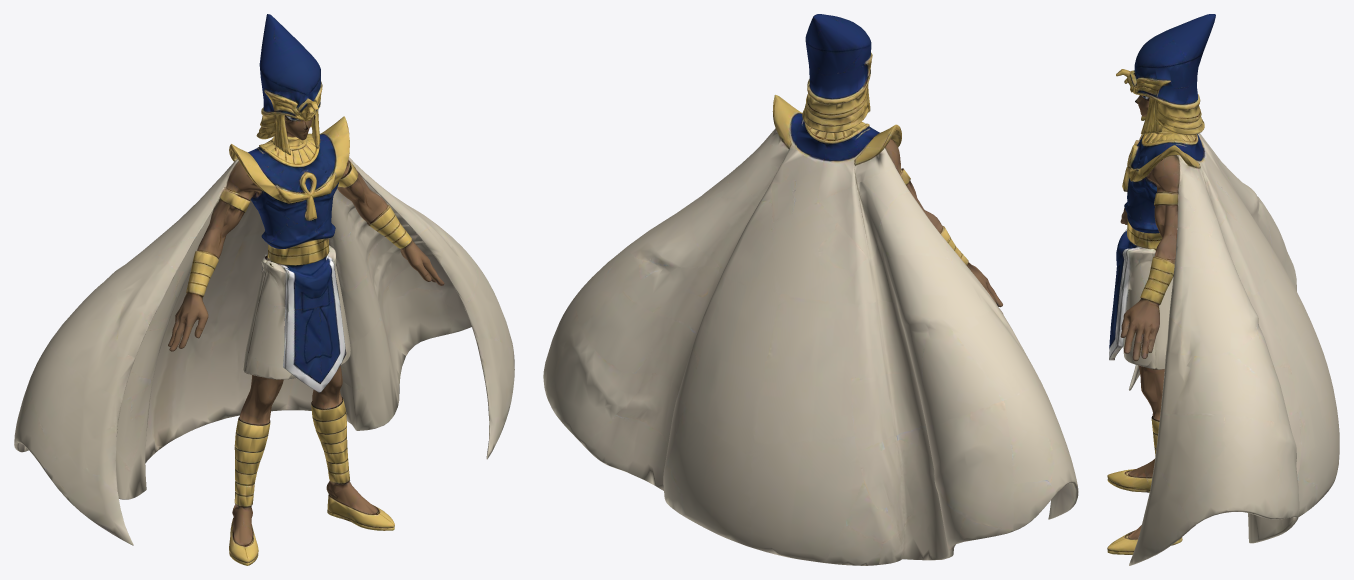
Rendered from priest-seto.glb.
The picture shows the model from 3 angles, left to right: view 1: azimuth 30°, elevation 25°; view 2: azimuth 150°, elevation 25°; view 3: azimuth 270°, elevation 25°; orthographic projection. The views are drawn at different scales.
Visible parts, largest first — view 1: mesh_node; view 2: mesh_node; view 3: mesh_node.
Part boxes in pixels (left/top/right/bottom): mesh_node: left=14, top=14, right=514, bottom=565; mesh_node: left=543, top=14, right=1078, bottom=565; mesh_node: left=1107, top=14, right=1339, bottom=565.
Bounding box in the file's own units: 1.9 × 1.87 × 0.7847.
Materials: 1 (1 with a texture image).
